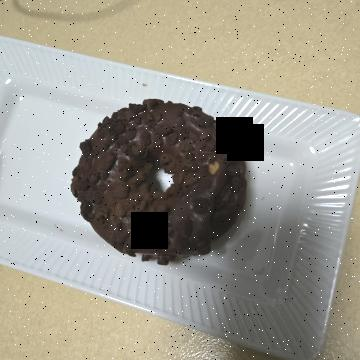doughnut: (86, 105, 279, 299)
